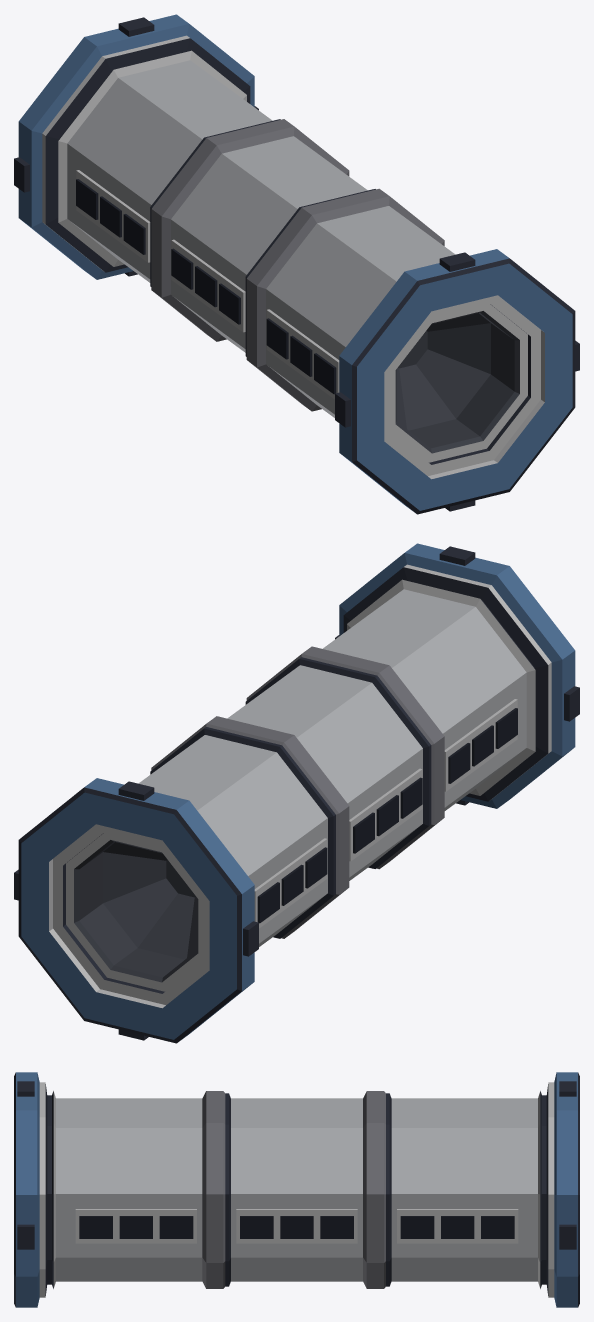
File: station-corridor-d7efdb.glb
3 views of the same model, one above another, from view 1: azimuth 30°, elevation 25°; view 2: azimuth 150°, elevation 25°; view 3: azimuth 270°, elevation 25° (orthographic). The views are drawn at different scales.
Parts seen in each view (by area): view 1: hull; view 2: hull; view 3: hull.
Boxes of the visible parts, bbox=[...] form: hull: bbox=[14, 14, 579, 514]; hull: bbox=[14, 543, 579, 1043]; hull: bbox=[14, 1072, 579, 1307].
Bounding box in the file's own units: 1.85 × 1.85 × 4.58.
